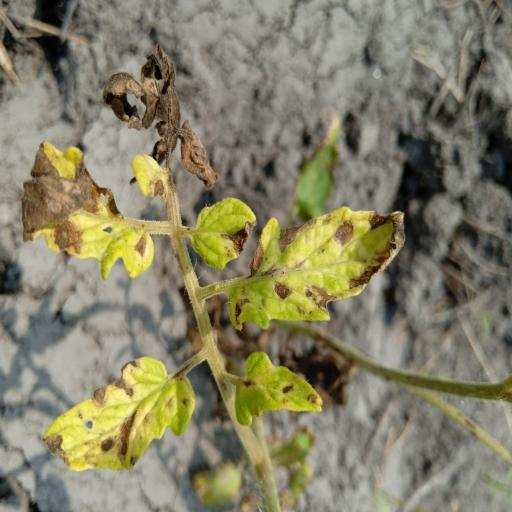Tomato_Brown_Spots: (224, 202, 412, 336), (40, 351, 202, 474), (16, 136, 156, 278)
